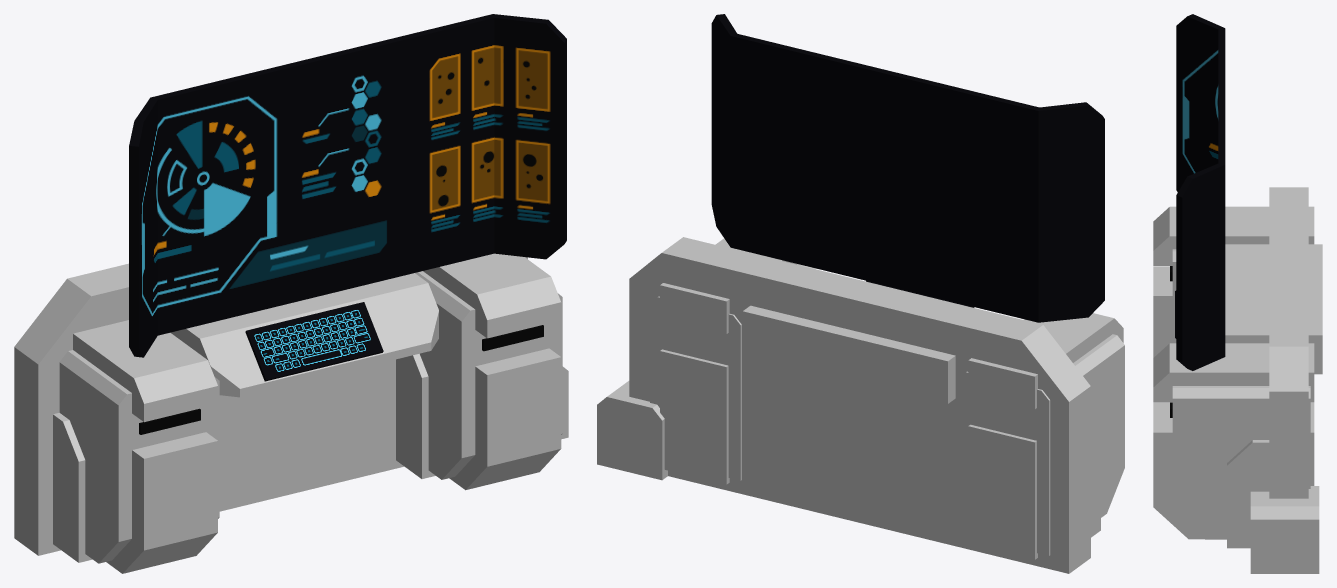
File: SM_Computer_Main_1.fbx
The picture shows the model from 3 angles, left to right: view 1: azimuth 30°, elevation 25°; view 2: azimuth 150°, elevation 25°; view 3: azimuth 270°, elevation 25°; orthographic projection. The views are drawn at different scales.
Visible parts, largest first — view 1: SM_Computer_Main_1; view 2: SM_Computer_Main_1; view 3: SM_Computer_Main_1.
Part boxes in pixels (x1=…): SM_Computer_Main_1: x1=14, y1=14, x2=568, y2=573; SM_Computer_Main_1: x1=597, y1=14, x2=1124, y2=573; SM_Computer_Main_1: x1=1153, y1=14, x2=1322, y2=573.
Bounding box in the file's own units: 263 × 221 × 91.22.
